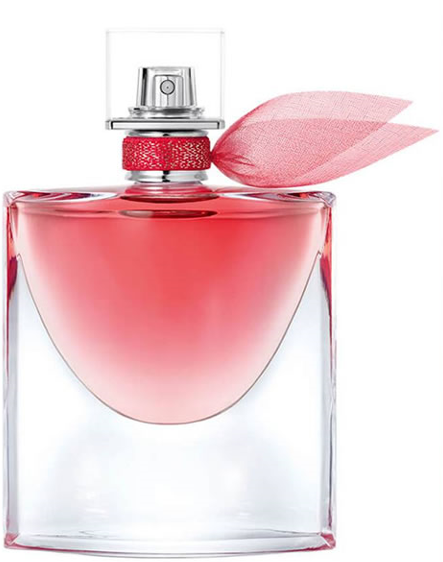lancome_la_vie_est_belle: (3, 25, 432, 558)
